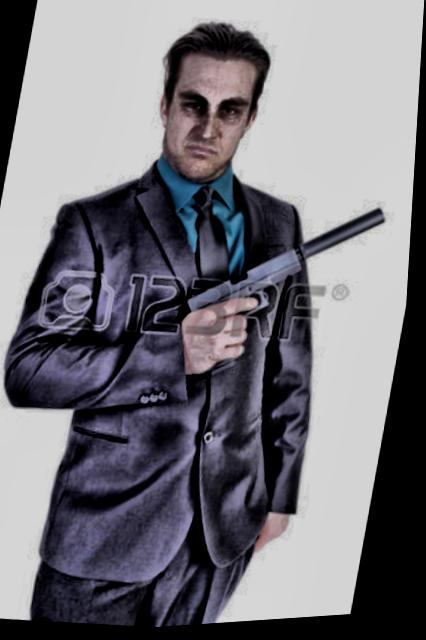pistol: (176, 235, 308, 389)
